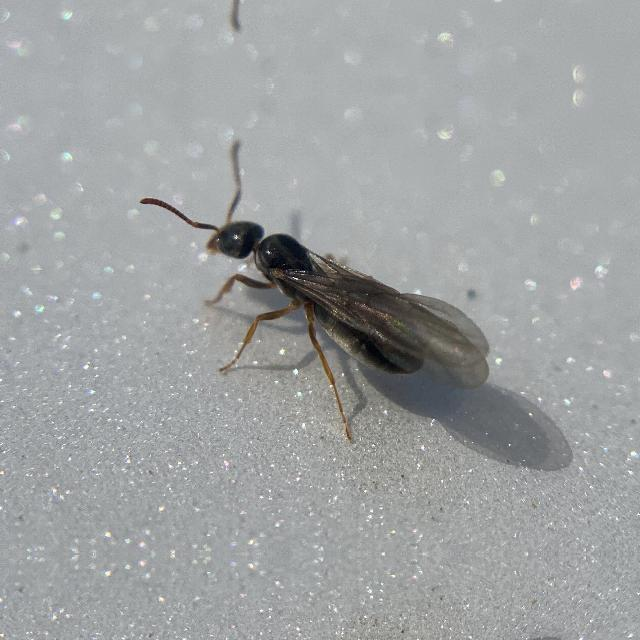Tapinoma: (148, 162, 514, 414)
